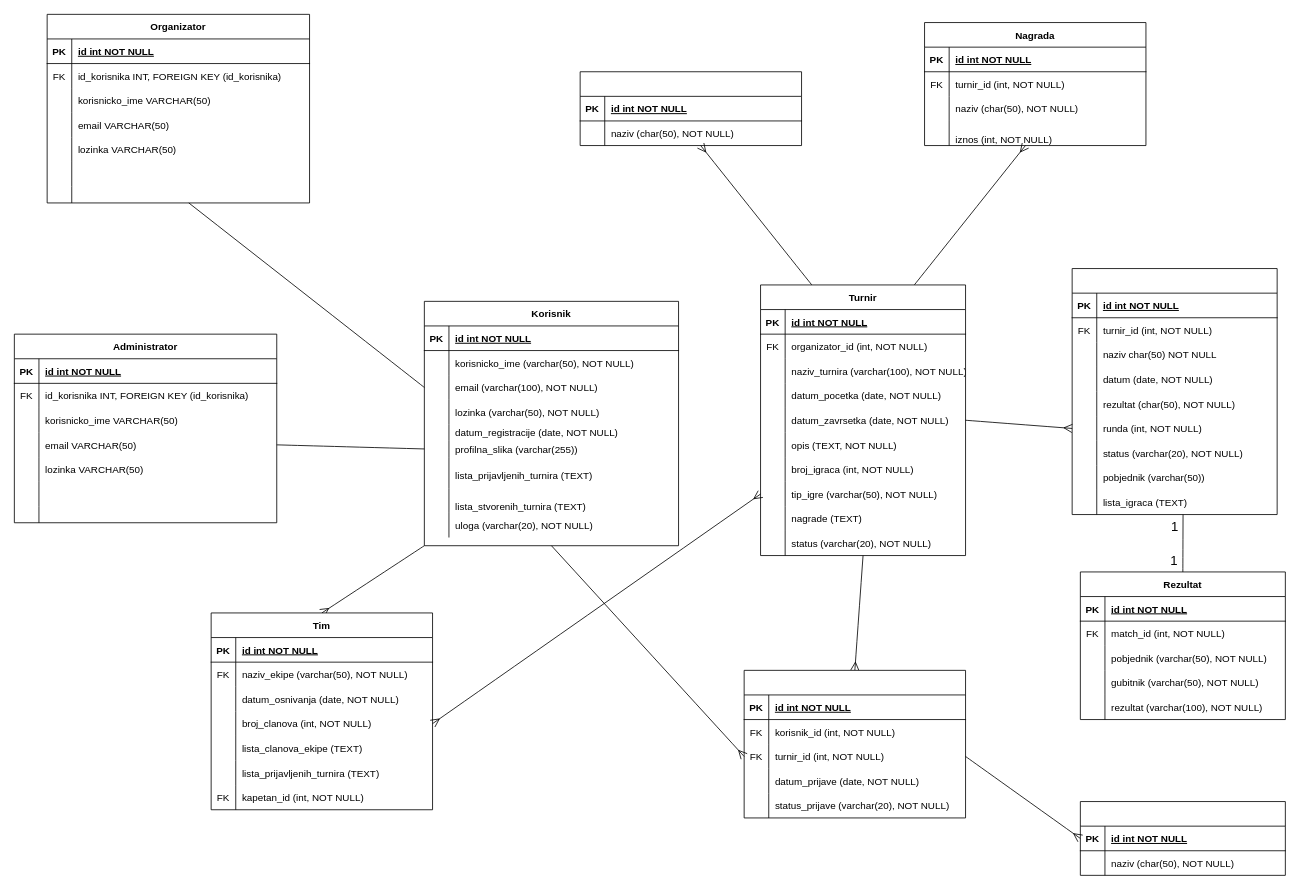
Some shapes in this 1300 by 890 pixel diagram are drawn without their labels. The box of each missing label's shape, as (x1, y1, x2, y2) in pixels:
Igra: (579, 71, 802, 146)
Meč: (1071, 268, 1277, 515)
Prijava na turnir: (743, 670, 966, 818)
Sistem za Plaćanje: (1080, 801, 1285, 875)
